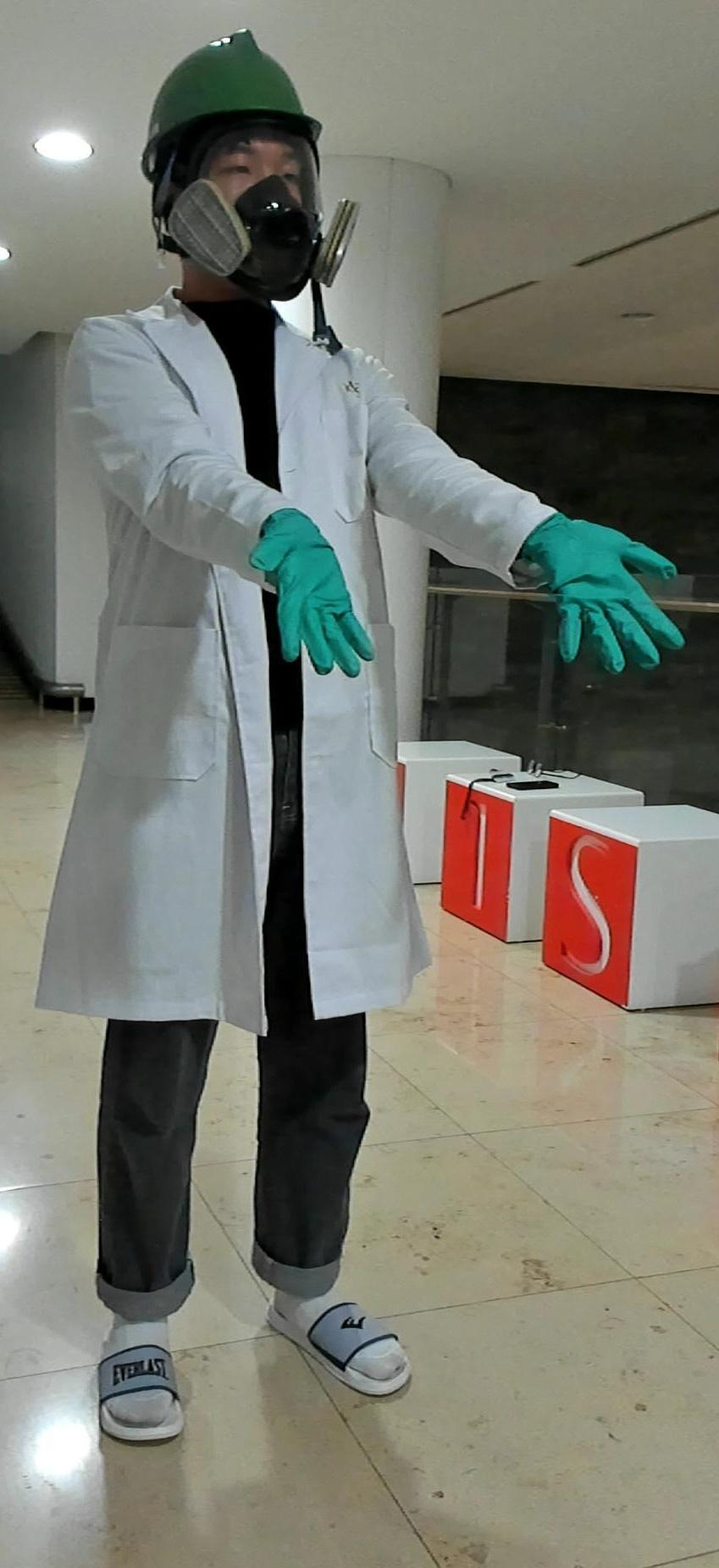Lab_coat: (35, 293, 562, 1043)
